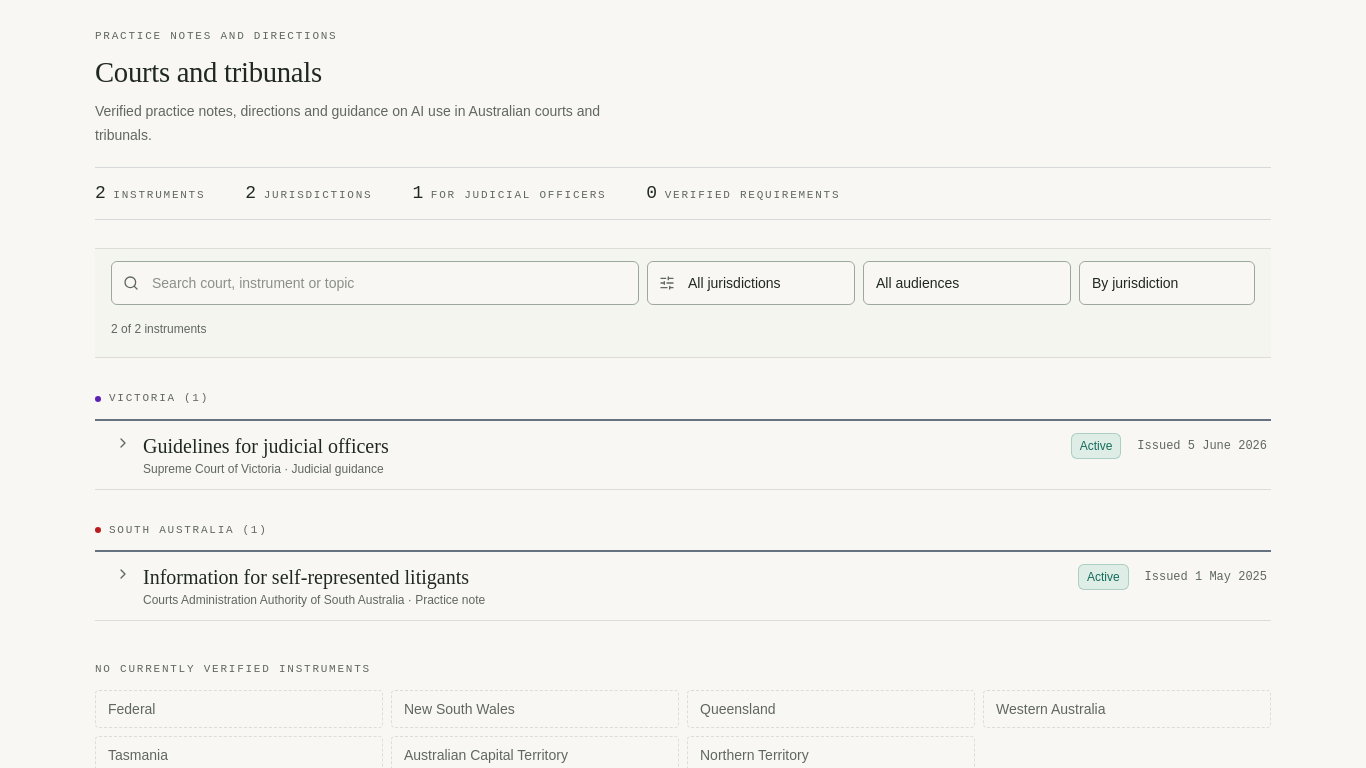
CourtsBrowser › surfaces court-focused analysis and accordion related / citing links
Click the button "Guidelines for judicial officers" at (266, 446), box x1=107 y1=421 x2=1271 y2=489
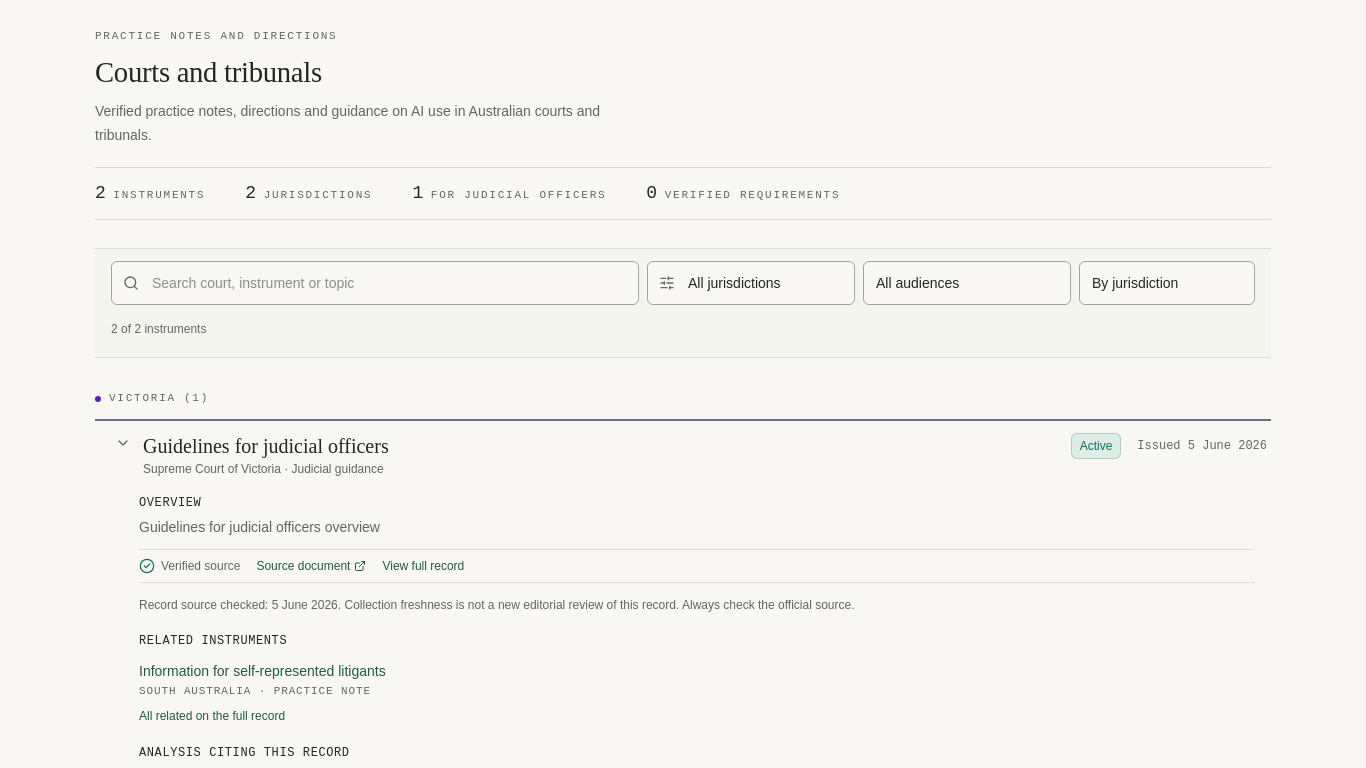
Now the text "Related instruments" is shown, box x1=139 y1=634 x2=287 y2=648
Now the text "Analysis citing this record" is shown, box x1=139 y1=745 x2=350 y2=759
